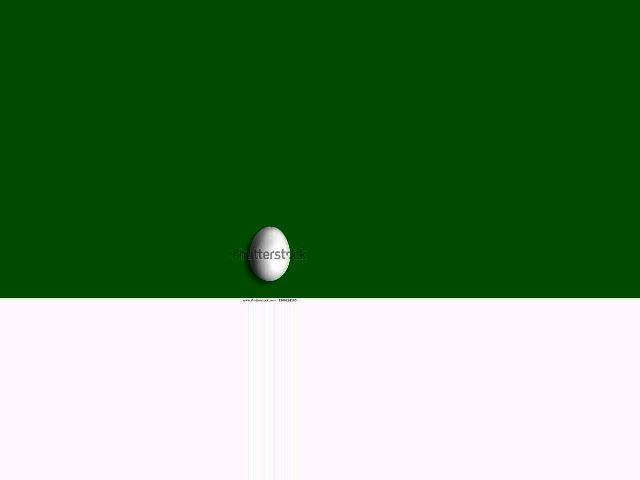egg: (249, 226, 290, 281)
